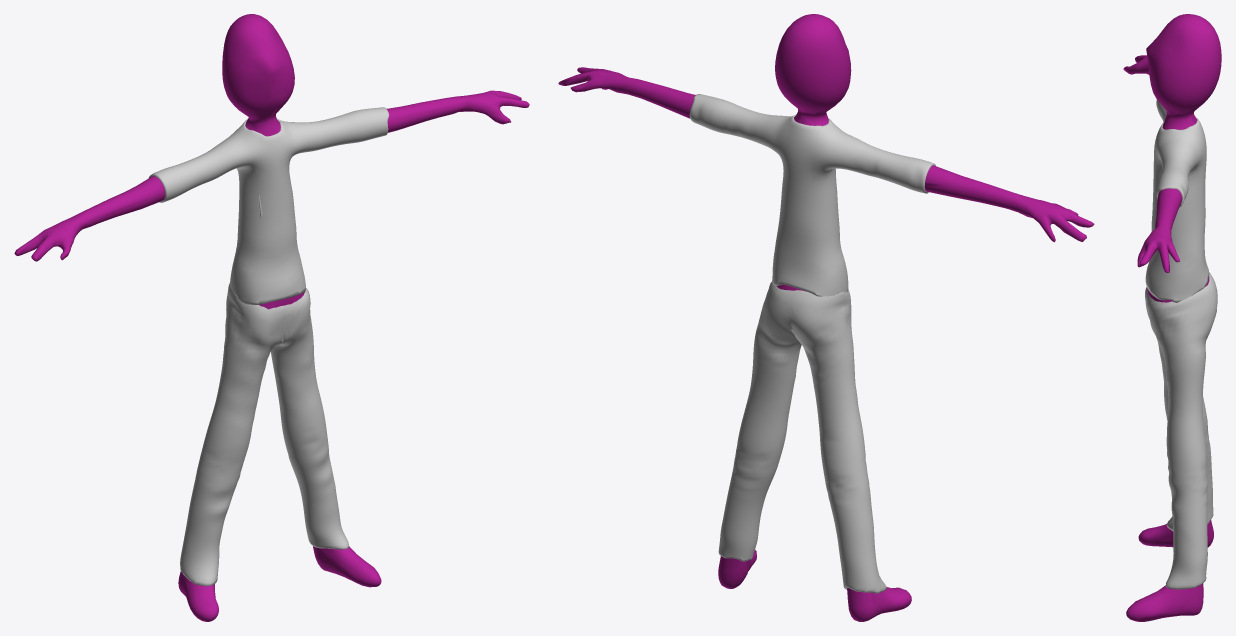
Rendered from StickFigurea.obj.
3 renders of one model, left to right at view 1: azimuth 30°, elevation 25°; view 2: azimuth 150°, elevation 25°; view 3: azimuth 270°, elevation 25°, orthographic. The views are drawn at different scales.
Parts seen in each view (by area): view 1: zbrushstickfigurBodysd; view 2: zbrushstickfigurBodysd; view 3: zbrushstickfigurBodysd.
Boxes of the visible parts, box(x1,y1,x2,y2) form: zbrushstickfigurBodysd: box(14, 14, 529, 621); zbrushstickfigurBodysd: box(558, 14, 1094, 621); zbrushstickfigurBodysd: box(1123, 14, 1221, 621).
Bounding box in the file's own units: 79.75 × 85.78 × 13.65.
